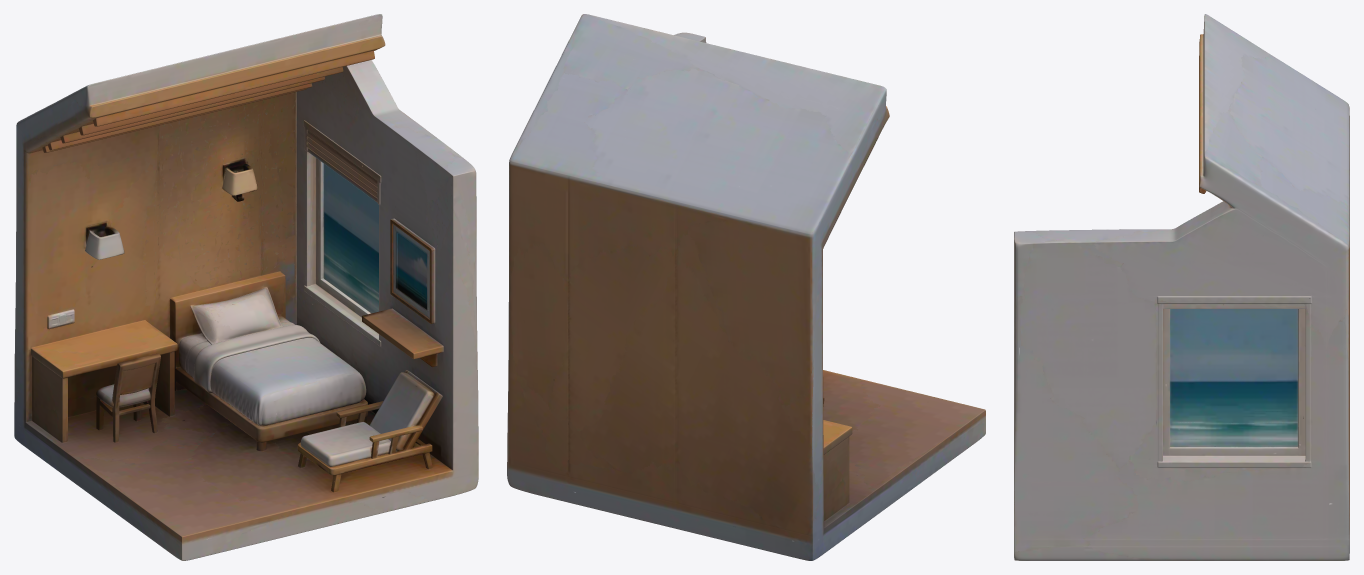
3 views of the same model, side by side, from view 1: azimuth 30°, elevation 25°; view 2: azimuth 150°, elevation 25°; view 3: azimuth 270°, elevation 25° (orthographic). The views are drawn at different scales.
Parts seen in each view (by area): view 1: material; view 2: material; view 3: material.
Boxes of the visible parts, x1,y1,x2,y2 form: material: (14, 14, 478, 560); material: (507, 14, 985, 560); material: (1014, 14, 1349, 560).
Bounding box in the file's own units: 0.63 × 0.8239 × 0.6158.
1 material, 1 textured.
